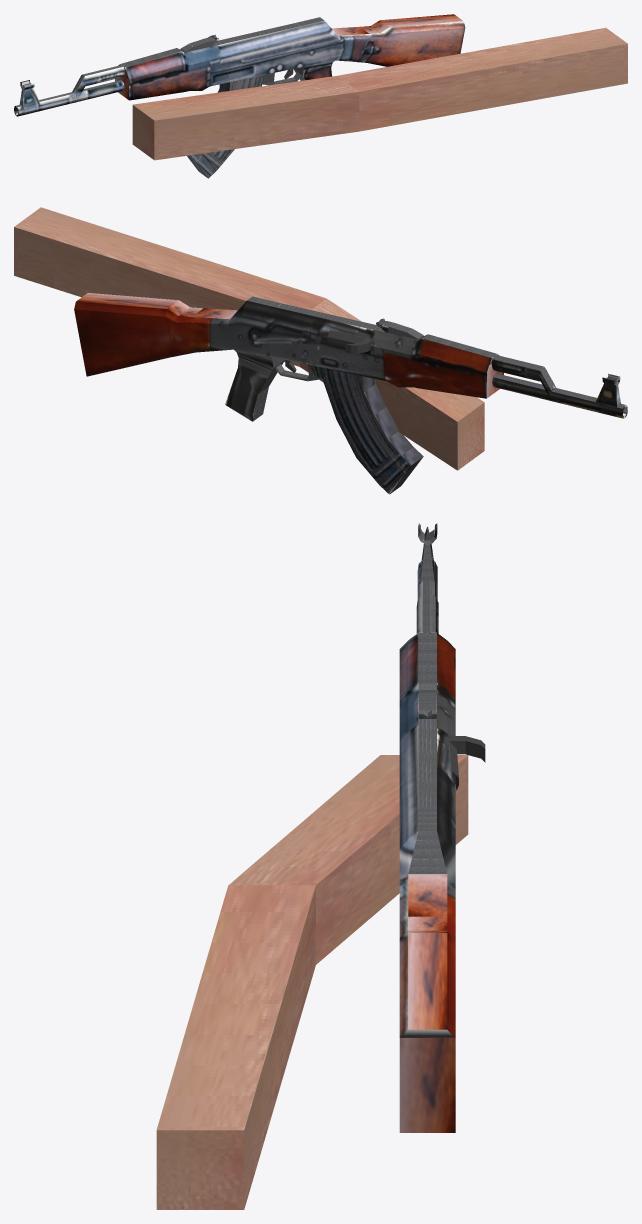
3 views of the same model, one above another, from view 1: azimuth 30°, elevation 25°; view 2: azimuth 150°, elevation 25°; view 3: azimuth 270°, elevation 25° (orthographic). The views are drawn at different scales.
Parts seen in each view (by area): view 1: Cube.001_Cube.006, Cube.007_Cube.005, Cube.002_Cube.003; view 2: Cube.007_Cube.005, Cube.001_Cube.006, Cube.002_Cube.003, Plane; view 3: Cube.001_Cube.006, Cube.007_Cube.005.
Boxes of the visible parts, box(x1,y1,x2,y2) form: Cube.001_Cube.006: box(132, 27, 627, 160); Cube.007_Cube.005: box(14, 14, 465, 116); Cube.002_Cube.003: box(187, 75, 262, 178); Cube.007_Cube.005: box(74, 293, 627, 421); Cube.001_Cube.006: box(14, 207, 484, 470); Cube.002_Cube.003: box(322, 368, 423, 494); Plane: box(327, 330, 372, 353); Cube.001_Cube.006: box(156, 755, 468, 1209); Cube.007_Cube.005: box(399, 523, 455, 1132).
Size of the model in its own units: 11.67 by 2.78 by 3.06.
